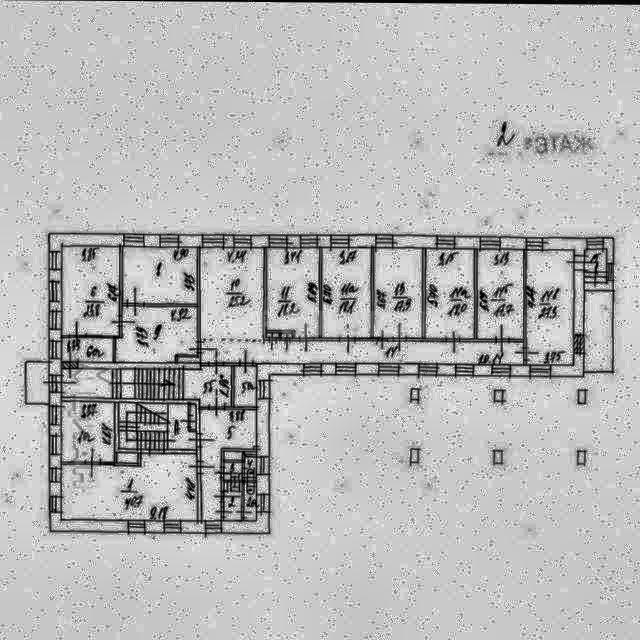room: (200, 248, 524, 363), (61, 454, 197, 520), (61, 365, 232, 406), (200, 410, 256, 520), (528, 251, 574, 364), (63, 248, 119, 335), (267, 248, 319, 338), (116, 306, 197, 362), (322, 249, 372, 337), (375, 250, 422, 337), (478, 250, 524, 338), (428, 250, 474, 338), (125, 248, 197, 303), (119, 403, 196, 449), (63, 403, 114, 463), (62, 338, 114, 362), (27, 361, 49, 404), (235, 366, 257, 406), (585, 248, 607, 271), (245, 482, 256, 520), (224, 497, 241, 520), (224, 473, 241, 495), (245, 457, 256, 480), (224, 463, 241, 473), (190, 404, 195, 429), (267, 333, 278, 337), (281, 333, 291, 337)
